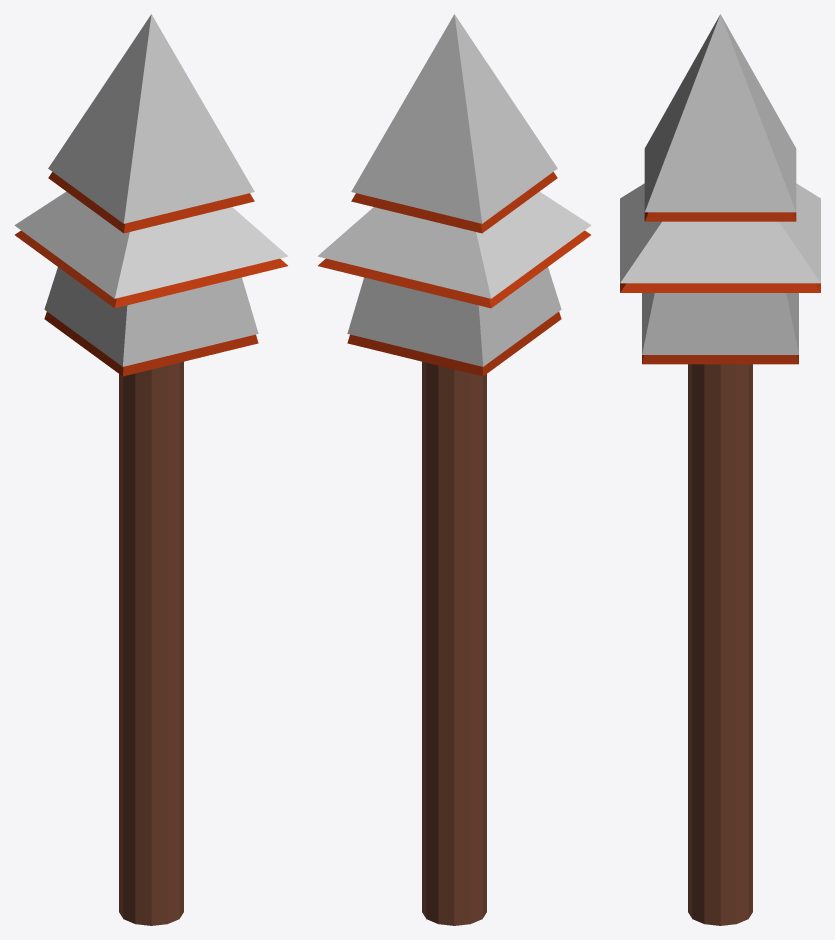
File: Tree_15_winter_red_vc.fbx
3 renders of one model, left to right at view 1: azimuth 30°, elevation 25°; view 2: azimuth 150°, elevation 25°; view 3: azimuth 270°, elevation 25°, orthographic.
Visible parts, largest first — view 1: Tree_15_winter_red_vc; view 2: Tree_15_winter_red_vc; view 3: Tree_15_winter_red_vc.
Boxes of the visible parts, x1,y1,x2,y2 form: Tree_15_winter_red_vc: (14, 14, 288, 925); Tree_15_winter_red_vc: (317, 14, 591, 925); Tree_15_winter_red_vc: (620, 14, 820, 925).
Bounding box in the file's own units: 68.73 × 339 × 68.73.
